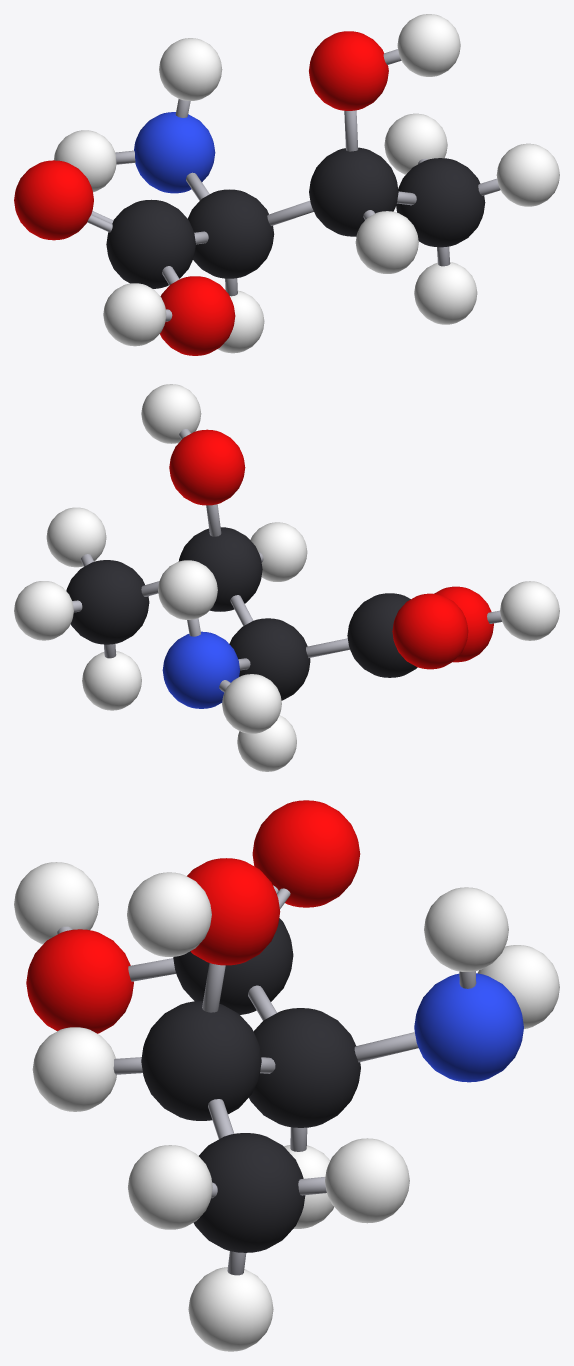
The model's file is threonine.glb.
The picture shows the model from 3 angles, top to bottom: view 1: azimuth 30°, elevation 25°; view 2: azimuth 150°, elevation 25°; view 3: azimuth 270°, elevation 25°; orthographic projection. The views are drawn at different scales.
Parts seen in each view (by area): view 1: C5, C3, C0, C1, O6, N4, O2, O7, H9, H16, H12, H11 (+7 smaller); view 2: C0, O2, O6, N4, C3, C1, C5, H16, H14, H15, H10, H8 (+6 smaller); view 3: C1, C3, C0, N4, O7, O6, O2, H10, H14, H12, H9, H11 (+8 smaller).
Boxes of the visible parts, box(x1,y1,x2,y2) form: C5: box(106, 199, 195, 288); C3: box(187, 189, 274, 278); C0: box(396, 158, 485, 247); C1: box(309, 147, 398, 236); O6: box(14, 160, 93, 240); N4: box(134, 112, 215, 193); O2: box(309, 31, 388, 110); O7: box(160, 276, 235, 355); H9: box(496, 143, 559, 206); H16: box(103, 283, 166, 346); H12: box(397, 14, 460, 76); H11: box(355, 211, 418, 273); C0: box(66, 560, 149, 644); O2: box(169, 429, 245, 505); O6: box(392, 593, 468, 669); N4: box(162, 631, 239, 708); C3: box(229, 618, 310, 700); C1: box(178, 527, 262, 611); C5: box(347, 593, 417, 677); H16: box(500, 581, 559, 640); H14: box(158, 560, 217, 619); H15: box(222, 674, 281, 733); H10: box(14, 581, 73, 640); H8: box(82, 651, 141, 710); C1: box(141, 1001, 261, 1120); C3: box(249, 1008, 360, 1127); C0: box(194, 1133, 305, 1252); N4: box(414, 973, 523, 1082); O7: box(26, 929, 133, 1033); O6: box(252, 800, 360, 907); O2: box(187, 858, 280, 965); H10: box(325, 1138, 409, 1223); H14: box(424, 887, 508, 971); H12: box(127, 872, 211, 956); H9: box(128, 1145, 212, 1229); H11: box(32, 1027, 116, 1111).
Size of the model in its own units: 6.45 by 4.17 by 4.62.
